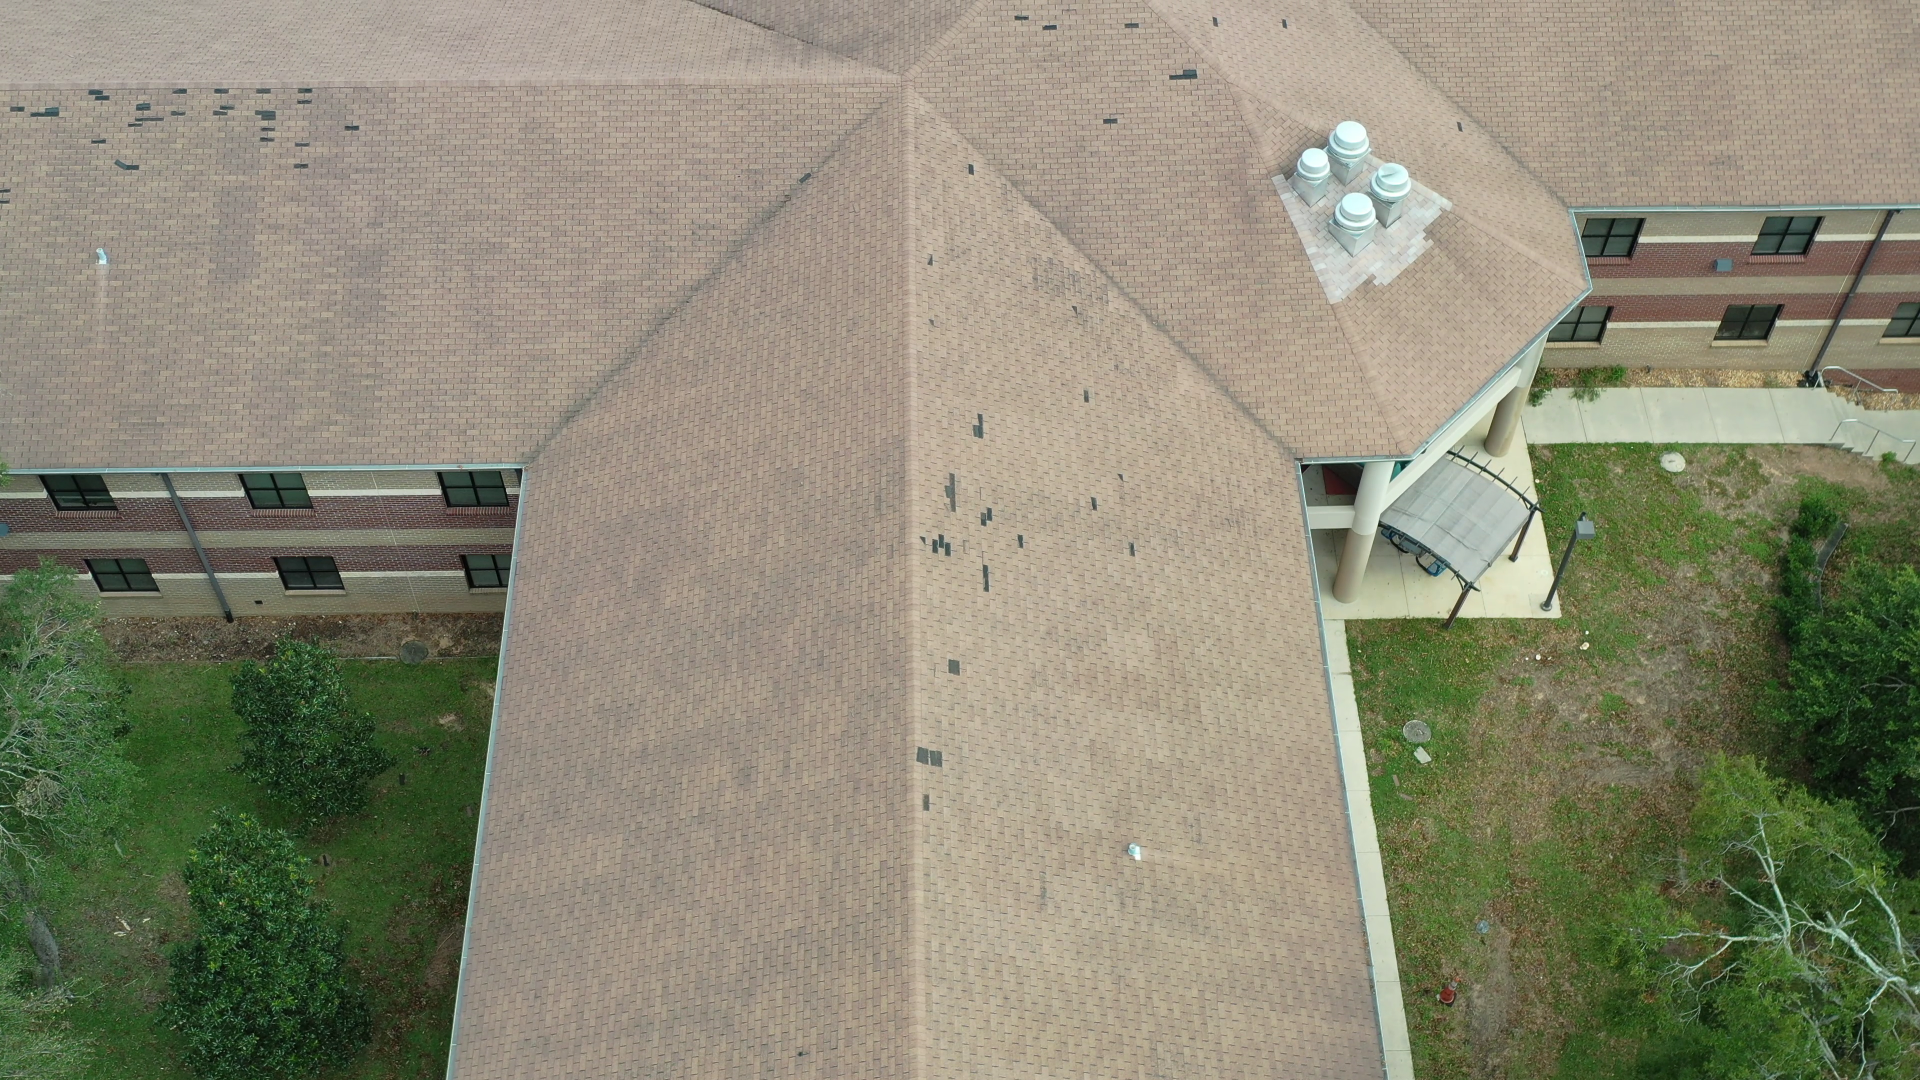Light: (9, 86, 361, 171), (919, 472, 1025, 593), (1091, 473, 1135, 558), (915, 745, 944, 812), (1013, 12, 1058, 32), (1167, 69, 1197, 80), (973, 411, 985, 440), (945, 655, 961, 676), (1101, 116, 1120, 125), (1122, 21, 1139, 30), (967, 161, 976, 177), (1083, 386, 1091, 404), (1279, 16, 1288, 30), (1211, 15, 1218, 28)
